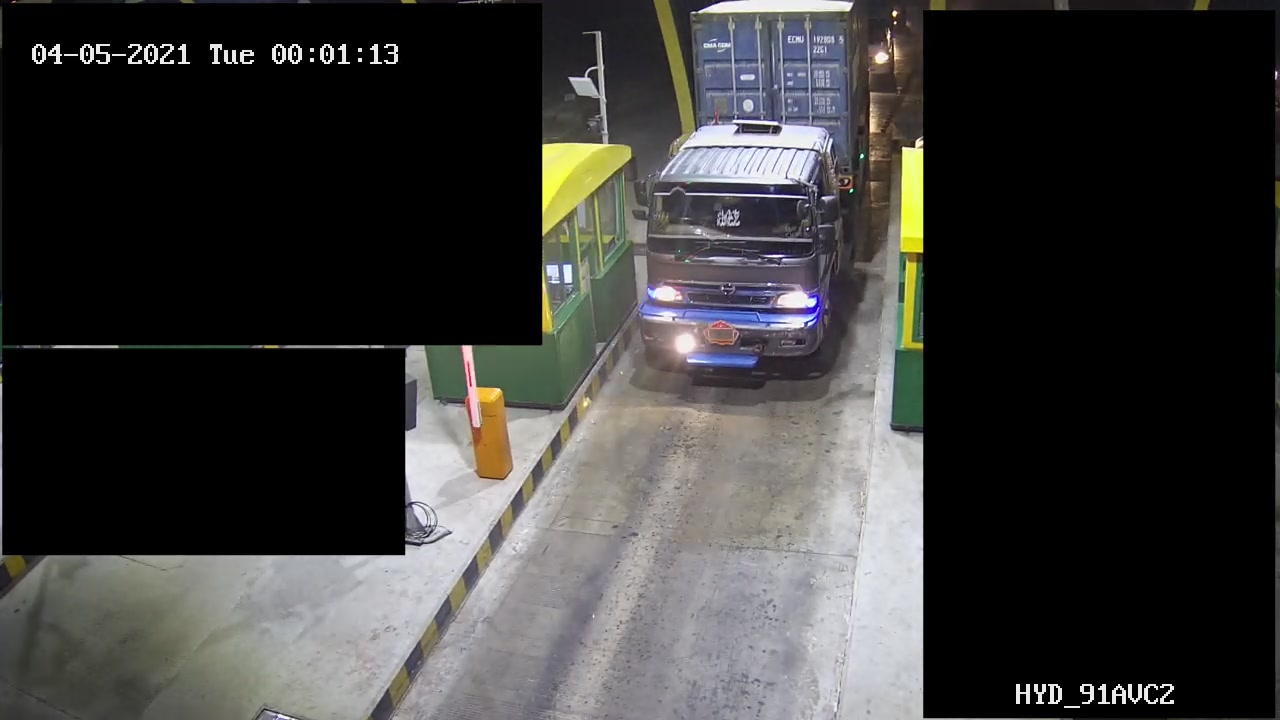F6: (633, 1, 867, 374)
